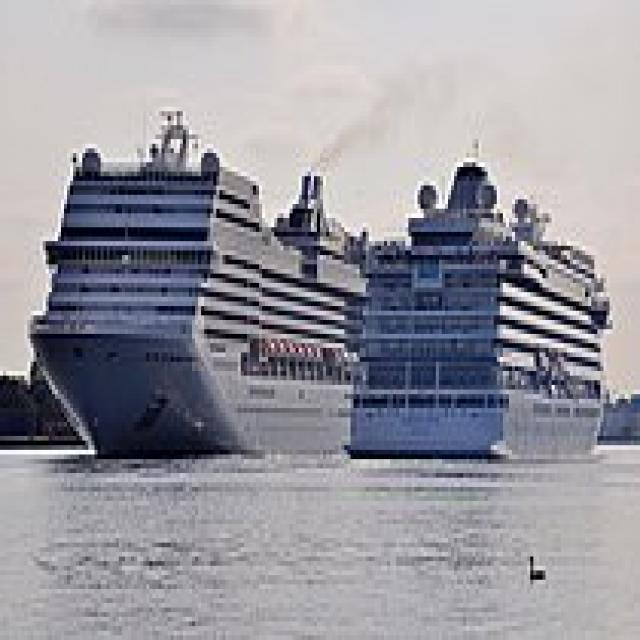Ship: (16, 99, 388, 461), (339, 131, 623, 474)
